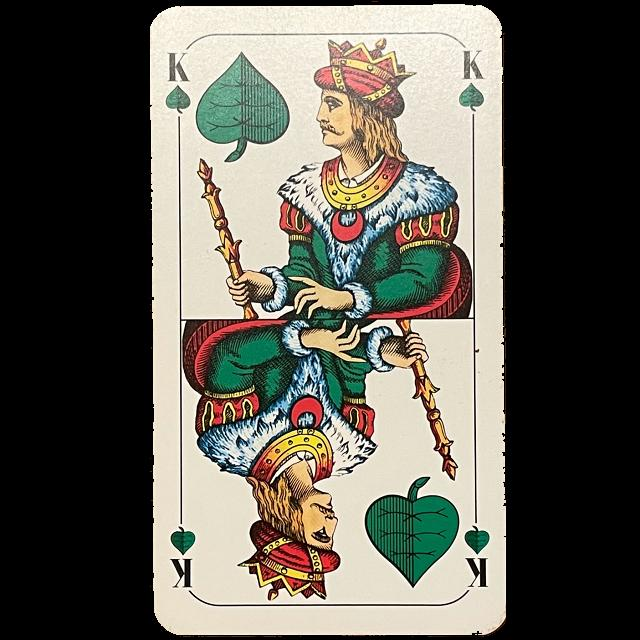GrasKoenig: (155, 3, 506, 635)
